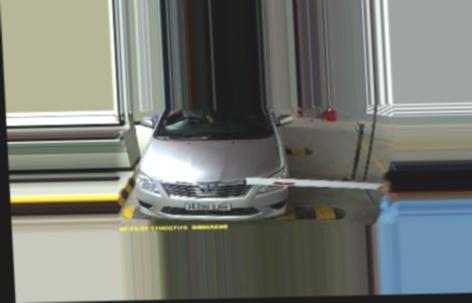License_Plate: (182, 198, 231, 214)
